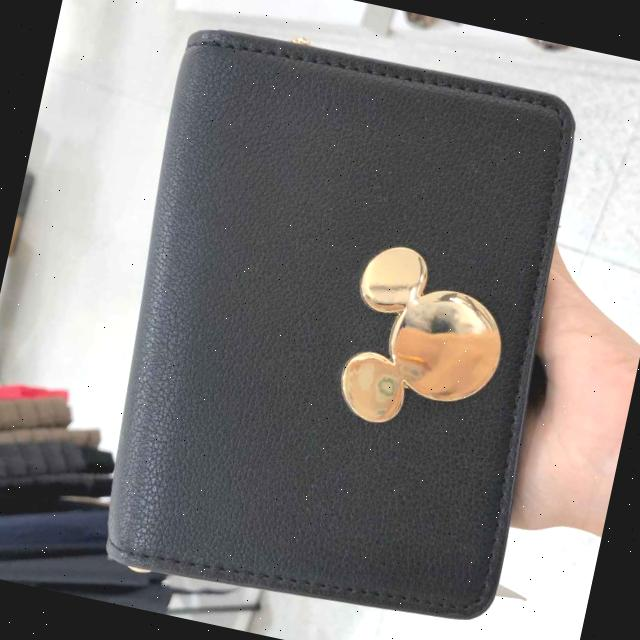handbag: (59, 19, 592, 640)
